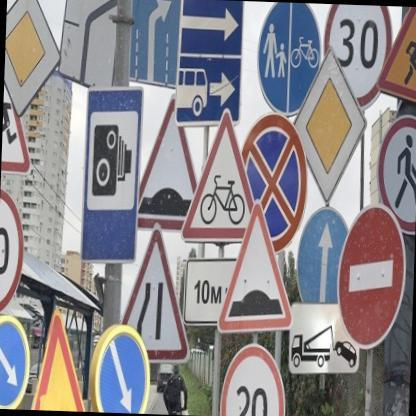obstructed_road_sign: (242, 114, 306, 246), (139, 96, 198, 230), (322, 3, 390, 107), (32, 311, 84, 410), (297, 206, 347, 303), (220, 344, 286, 416), (379, 116, 415, 231), (380, 7, 415, 102), (0, 188, 23, 311), (0, 314, 28, 408), (2, 88, 29, 173)
road_sign: (81, 87, 142, 262), (295, 52, 364, 200), (338, 206, 405, 349), (182, 110, 254, 241), (218, 203, 290, 332), (122, 228, 187, 362), (176, 0, 242, 125), (259, 2, 320, 106), (5, 0, 59, 115), (92, 325, 149, 412), (61, 0, 116, 86), (289, 305, 359, 371), (130, 0, 182, 86)
